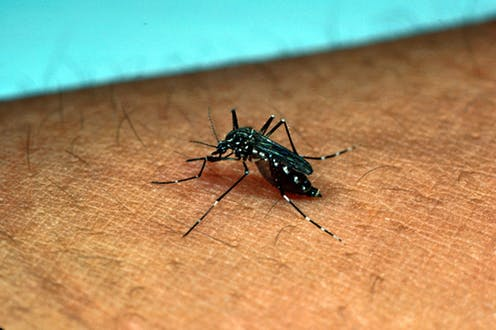dengue_mosquito: (165, 107, 342, 243)
